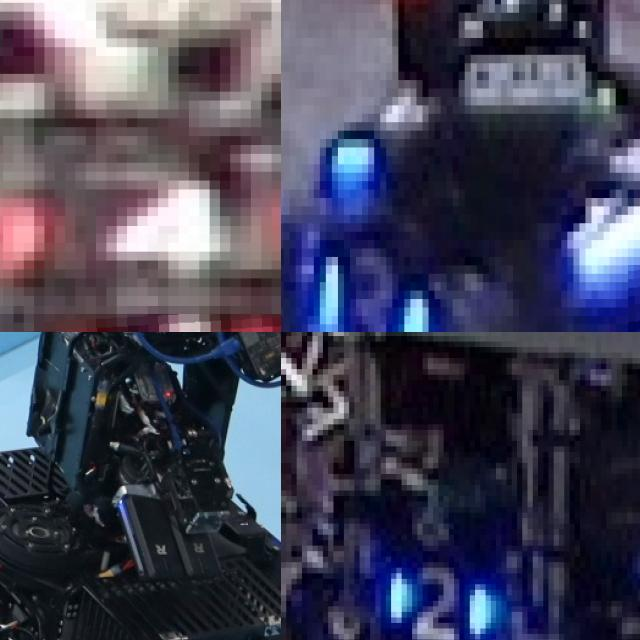B2: (359, 556, 501, 640)
B3: (307, 223, 428, 332)
